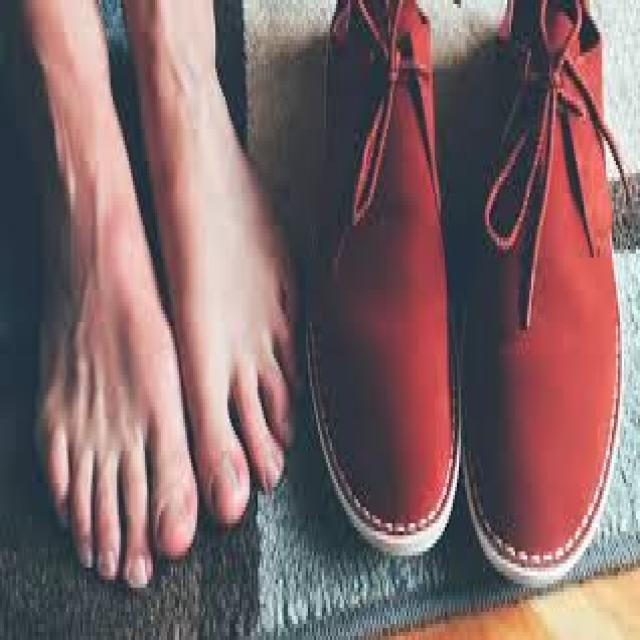No_Shoe: (3, 49, 202, 596)
